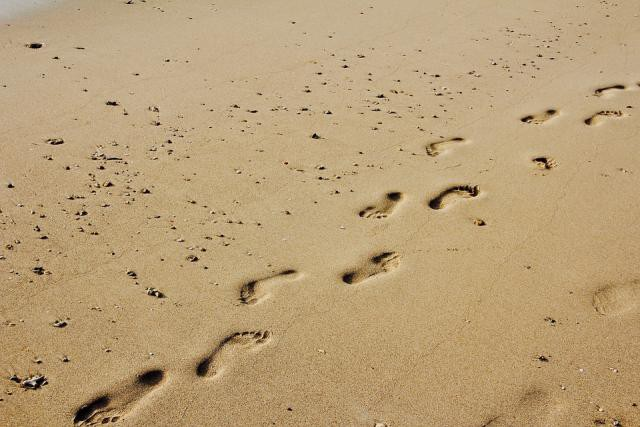human_footprint: (59, 369, 172, 427), (199, 333, 283, 376), (233, 260, 305, 303), (422, 178, 492, 216), (343, 249, 406, 286), (354, 185, 407, 224), (519, 102, 563, 131), (424, 133, 467, 158)
